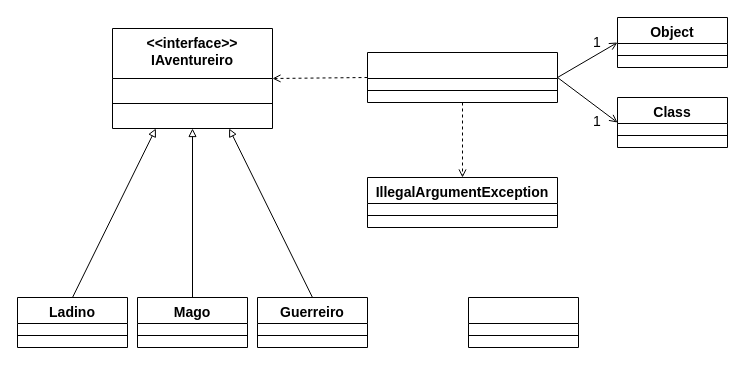
This 745x365 diagram has some shape labels left out. Here are the shapes that lost their labels. From the top down, the centre of each, then its label:
the point at 462,77: AventureiroFactory
the point at 523,322: Paladino
